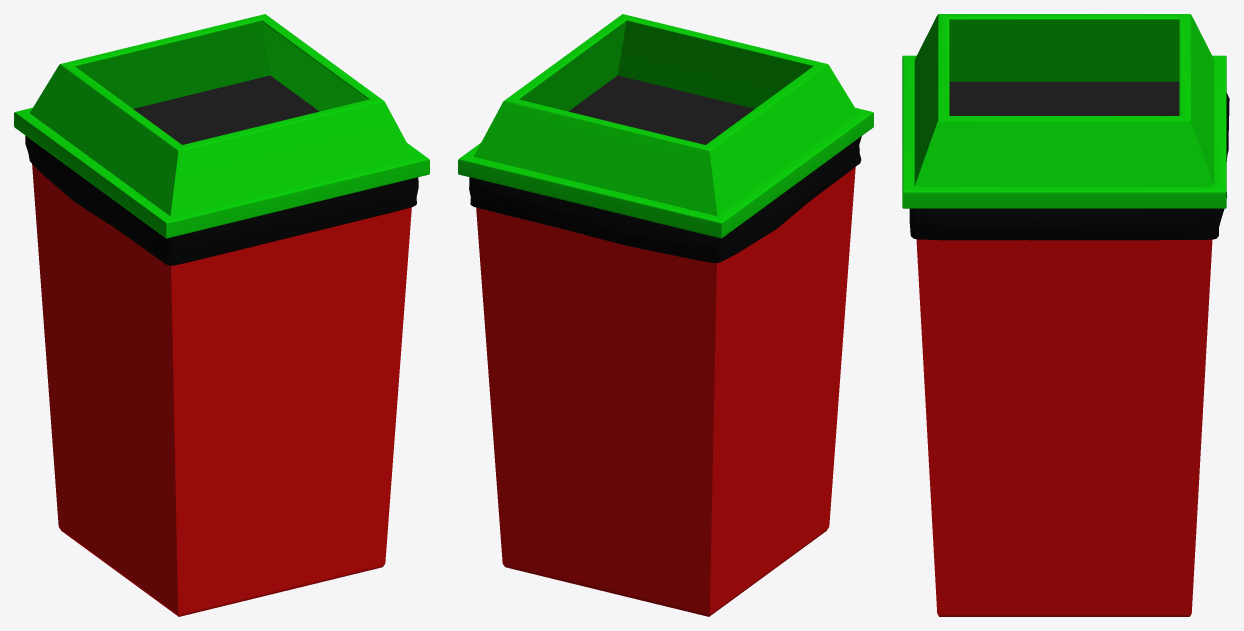
The model's file is TrashCan.fbx.
3 views of the same model, side by side, from view 1: azimuth 30°, elevation 25°; view 2: azimuth 150°, elevation 25°; view 3: azimuth 270°, elevation 25° (orthographic). The views are drawn at different scales.
Parts seen in each view (by area): view 1: Trash_Can; view 2: Trash_Can; view 3: Trash_Can.
Boxes of the visible parts, x1,y1,x2,y2 form: Trash_Can: (14,14,429,616); Trash_Can: (458,14,873,616); Trash_Can: (902,14,1229,616).
Bounding box in the file's own units: 1.77 × 2.98 × 1.77.
